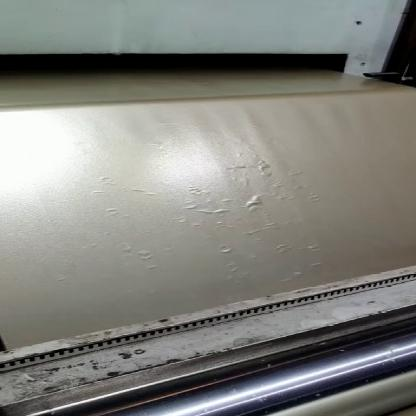Blisters: (168, 203, 227, 214), (240, 188, 261, 212), (252, 158, 278, 172), (293, 242, 314, 252)
